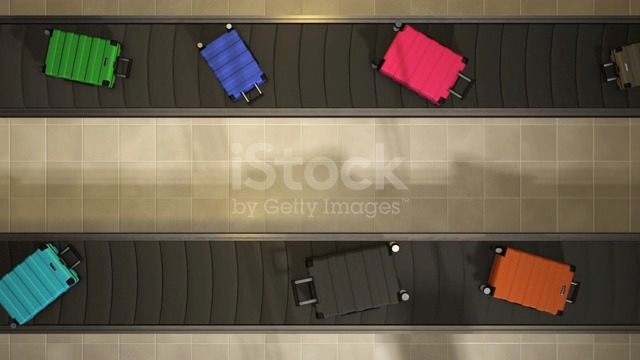Bag: (286, 239, 412, 326), (375, 18, 476, 107), (0, 240, 86, 332), (479, 244, 584, 319), (34, 24, 137, 95), (194, 23, 274, 111), (594, 32, 640, 105)
Handle: (288, 275, 323, 313), (53, 241, 86, 278), (448, 71, 478, 102), (114, 55, 138, 85), (561, 279, 584, 310), (238, 83, 266, 106), (595, 59, 617, 88)
